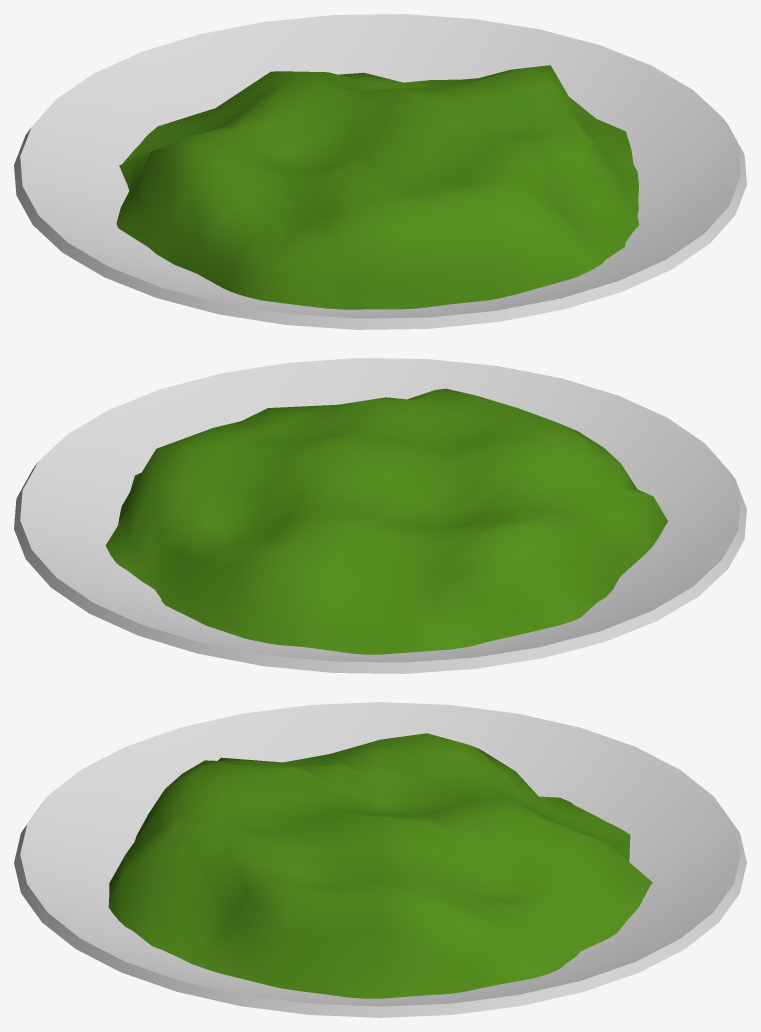
File: sushi_sarawasabi.fbx
3 renders of one model, top to bottom at view 1: azimuth 30°, elevation 25°; view 2: azimuth 150°, elevation 25°; view 3: azimuth 270°, elevation 25°, orthographic.
Visible parts, largest first — view 1: 球; view 2: 球; view 3: 球.
Part boxes in pixels (x1,y1,x2,y2): 球: [14, 14, 746, 329]; 球: [14, 358, 746, 673]; 球: [14, 702, 746, 1017].
Size of the model in its own units: 1.11 by 0.2403 by 1.11.
